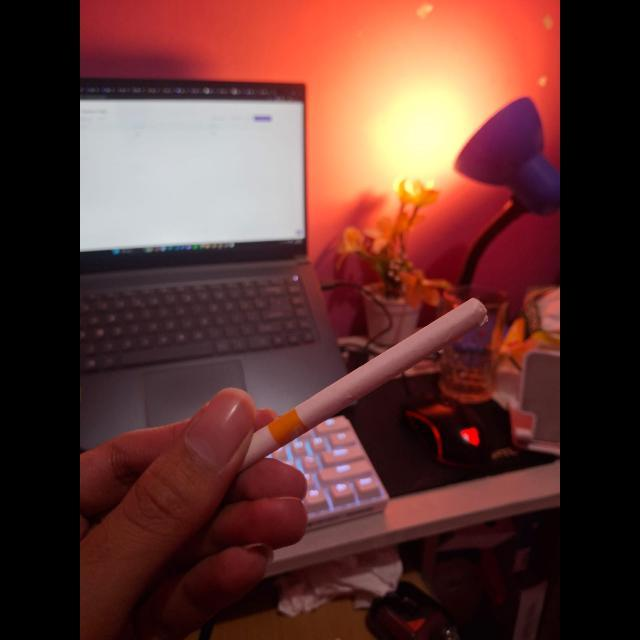rokok: (236, 296, 487, 462)
